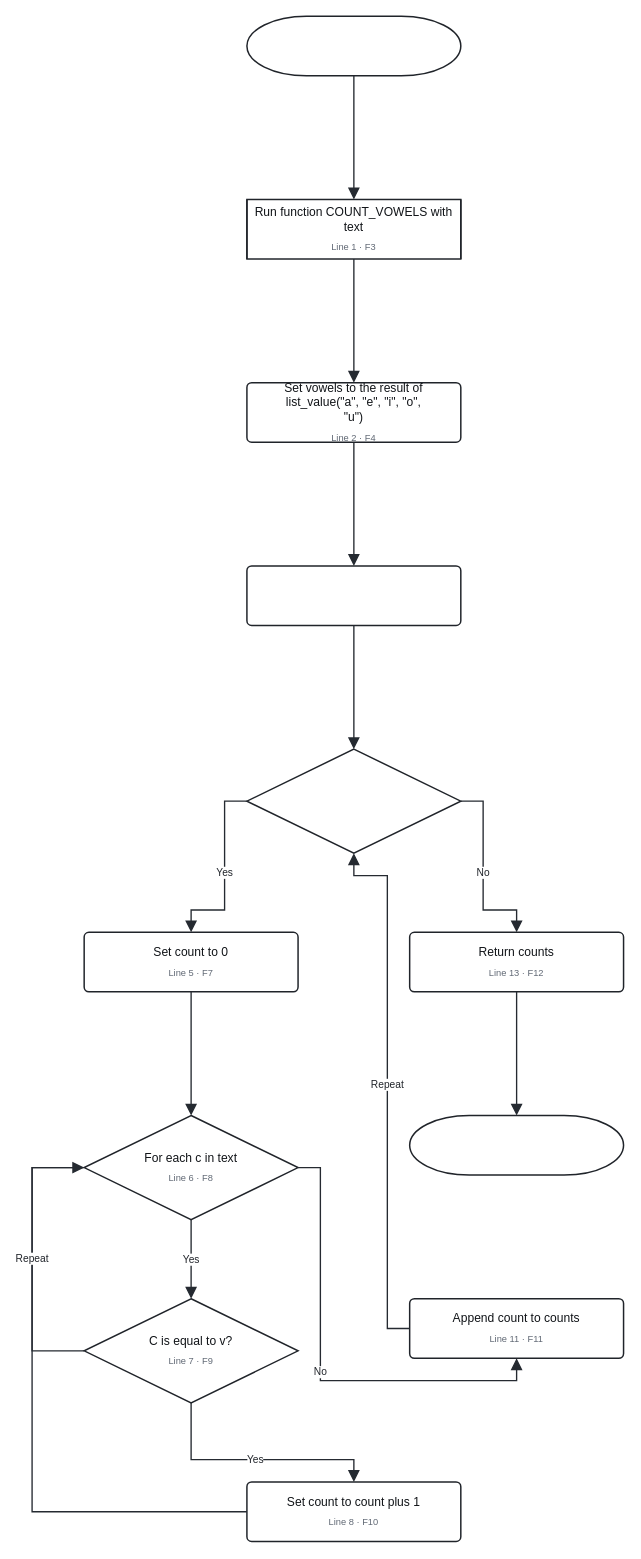
Image size: 641x1559. Some labels were removed from this diagram. The box of each missing label's shape, as (x1, y1, x2, y2) in pixels:
End Line 1 · F2: (408, 1114, 624, 1175)
For each v in vowels Line 4 · F6: (246, 748, 461, 854)
Set counts to an empty list Line 3 · F5: (246, 565, 461, 626)
Start Line 1 · F1: (246, 15, 461, 76)
